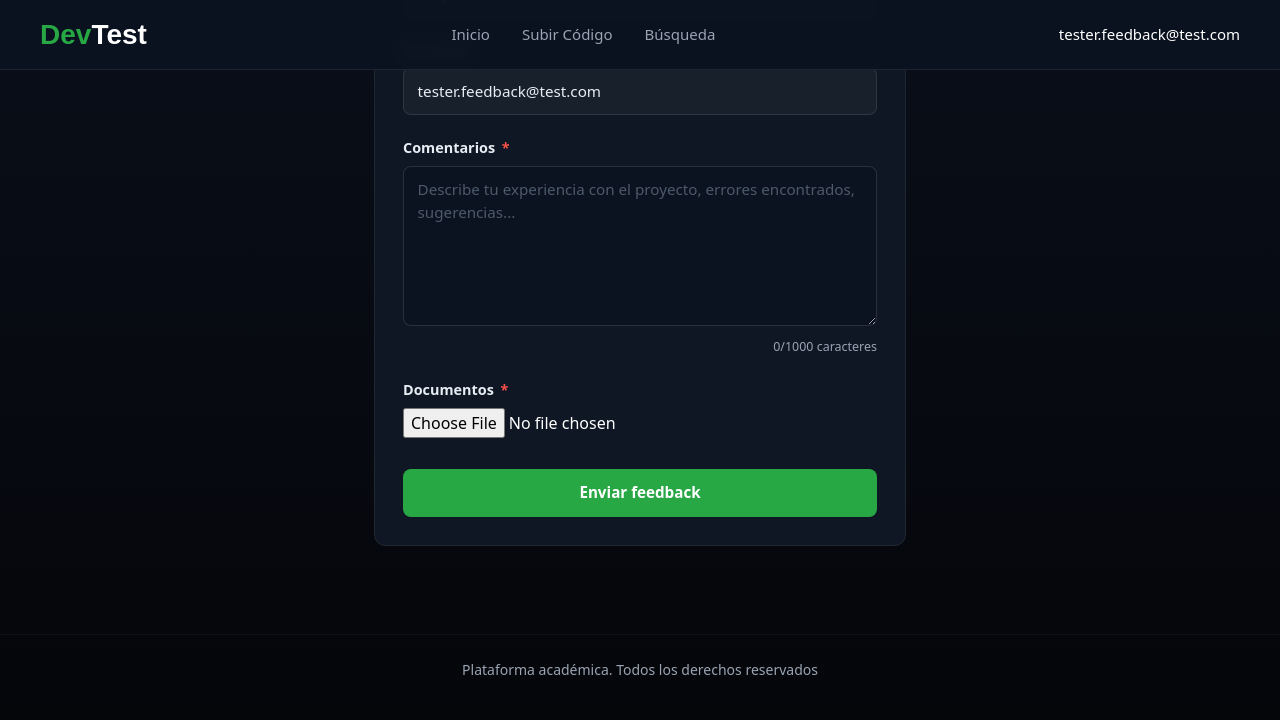
DT_08 - Enviar feedback de proyecto › DT_08_05: Rechaza comentarios vacios
(page scrolled)
Click the button with class "feedback-boton-enviar".
click(640, 493)  # box [403,469,877,517]
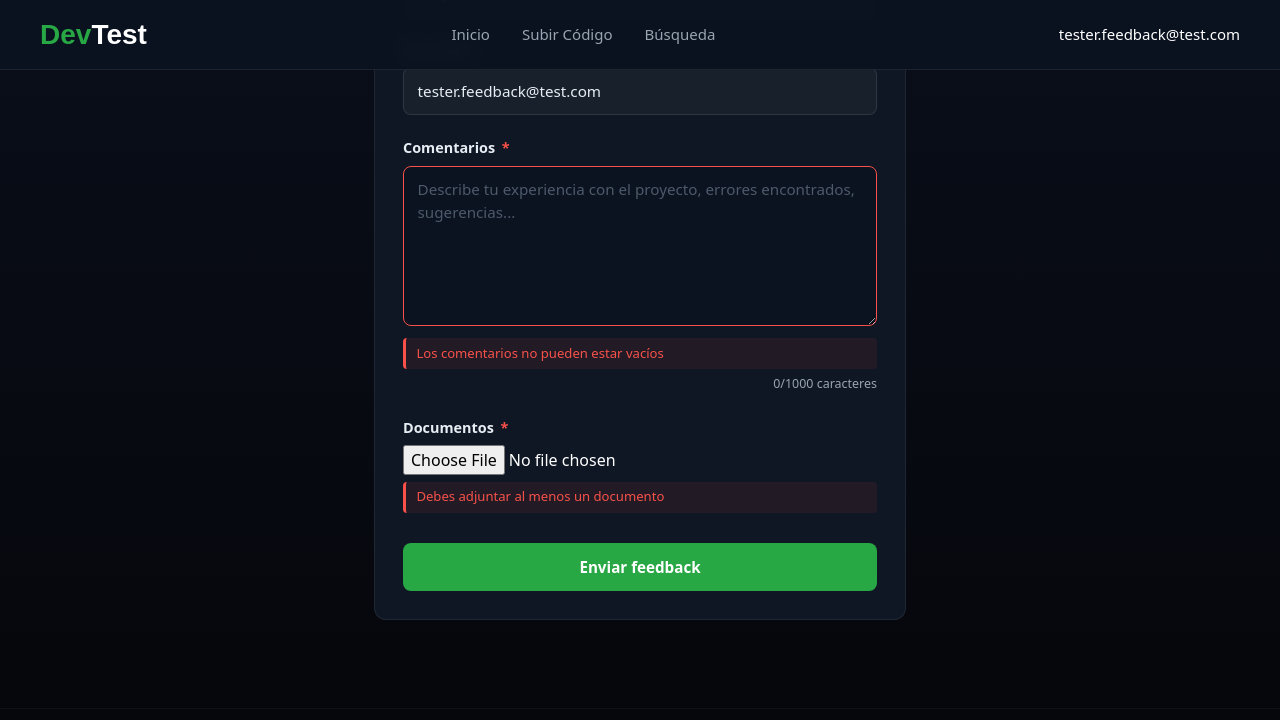
Result: the text "Los comentarios no pueden estar vac" is shown at [416,344,663,362]
